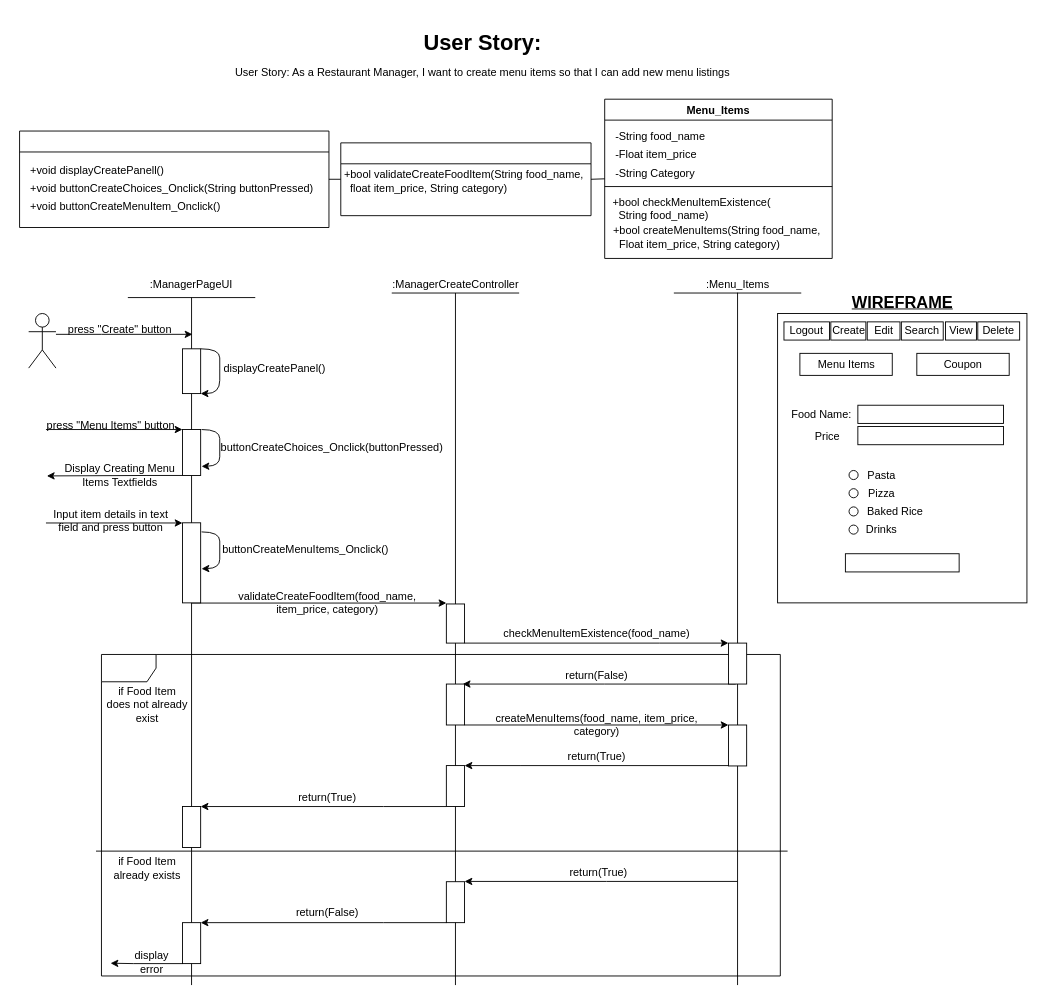
The diagram is 1043 pixels wide and 1002 high, and some of its shapes have lost their labels. The shapes that lost their labels are listed below. From the top down, each one's box as (x1, y1, x2, y2) in pixels, then its label:
(19, 130, 329, 228): ManagerPageUI
(340, 142, 591, 216): ManagerCreateController
(28, 313, 56, 368): Restaurant Manager
(844, 553, 959, 572): Create Menu Item
(101, 654, 780, 976): alt
